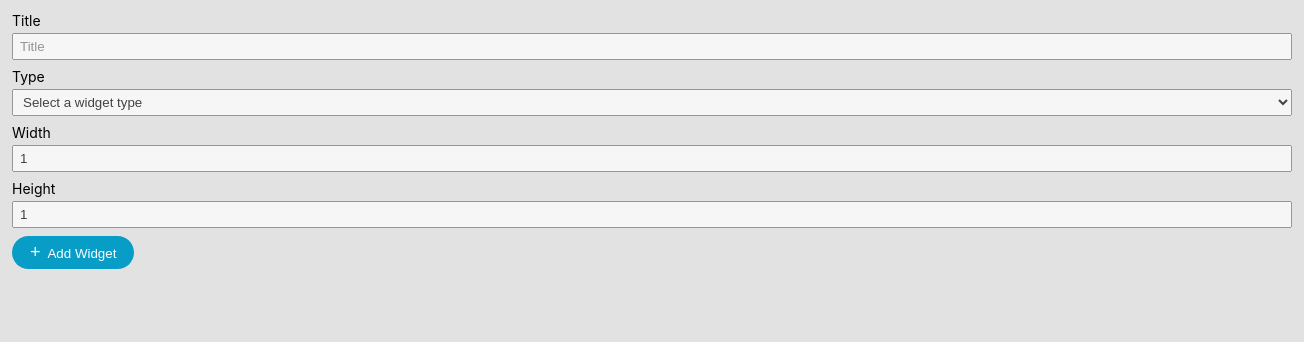
it: WidgetForm › should clear the form after submit
The width and height of the screenshot is (1304, 342).
In the field with placeholder "Title": x=652, y=46 [12,33,1292,60], type "New Title"
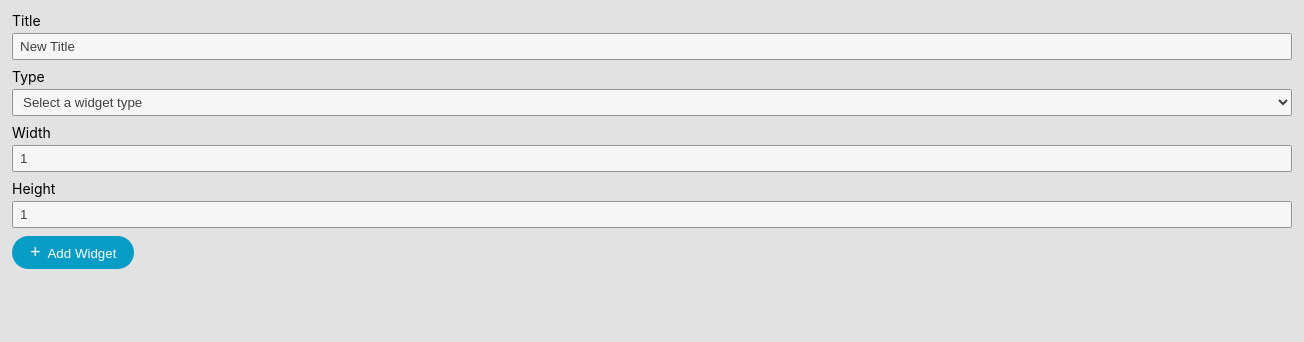
Select "Data Table" in the dropdown with test id "form-type-input": x=652, y=102 [12,89,1292,116]
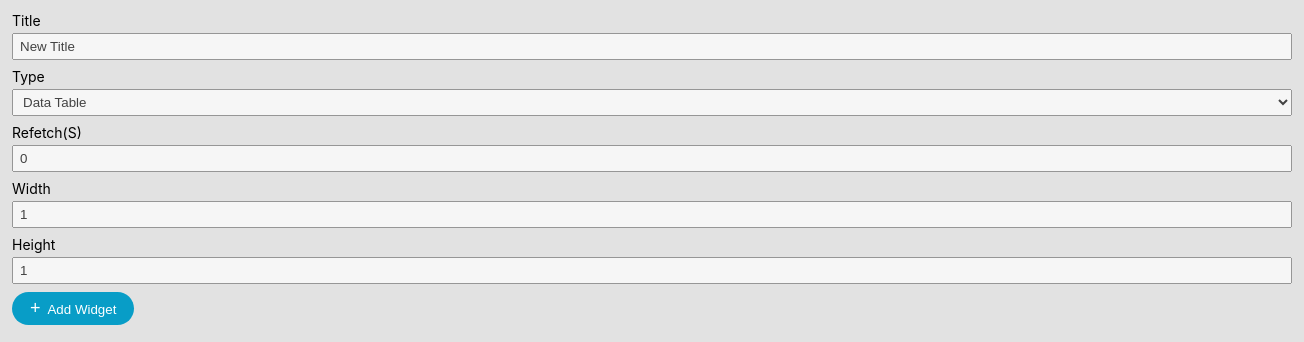
Replace the text in the number field with test id "form-width-input" with "2": x=652, y=214 [12,201,1292,228]
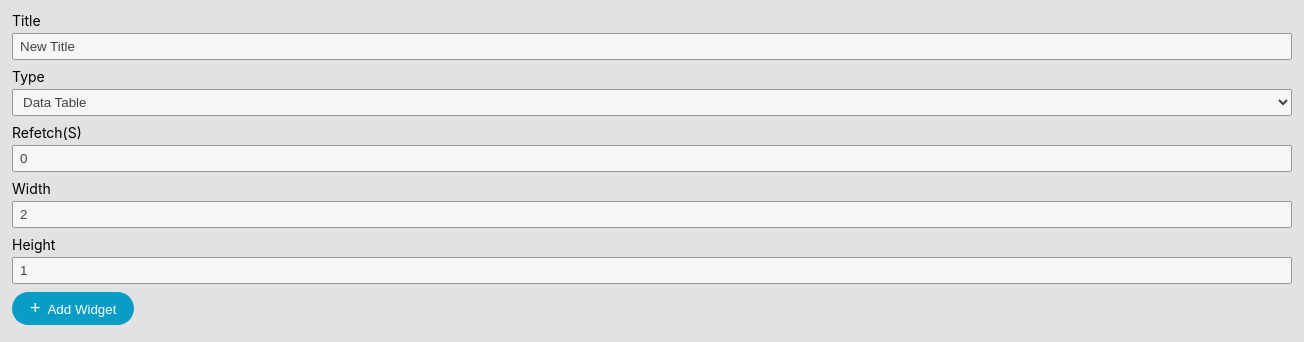
Replace the text in the number field with test id "form-height-input" with "2": x=652, y=270 [12,257,1292,284]
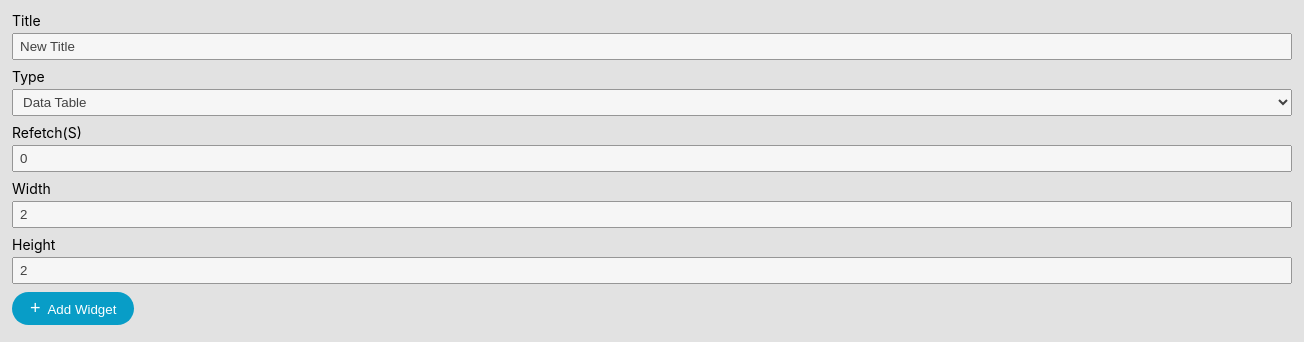
Click the button with test id "form-submit": x=73, y=308 [12,292,134,325]
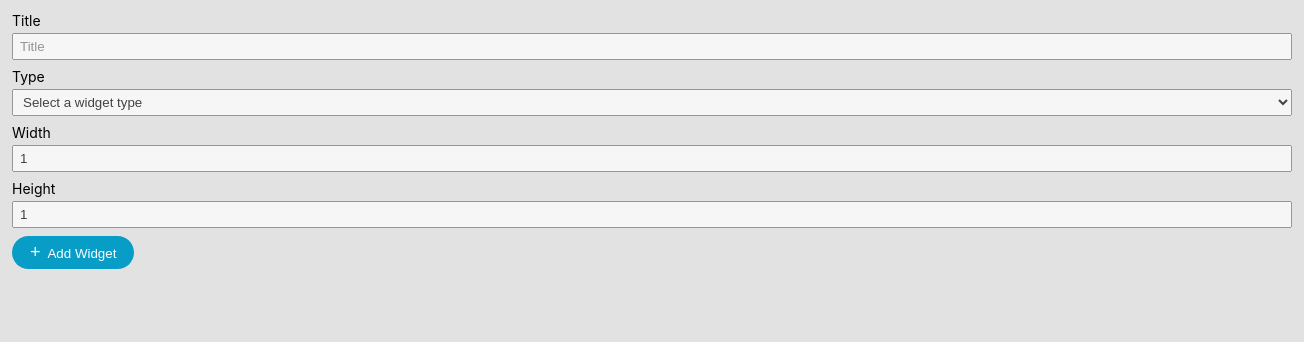
expect the field with placeholder "Title" is empty: met, box [12,33,1292,60]
expect the number field with test id "form-width-input" holds "1": met, box [12,145,1292,172]
expect the number field with test id "form-height-input" holds "1": met, box [12,201,1292,228]
